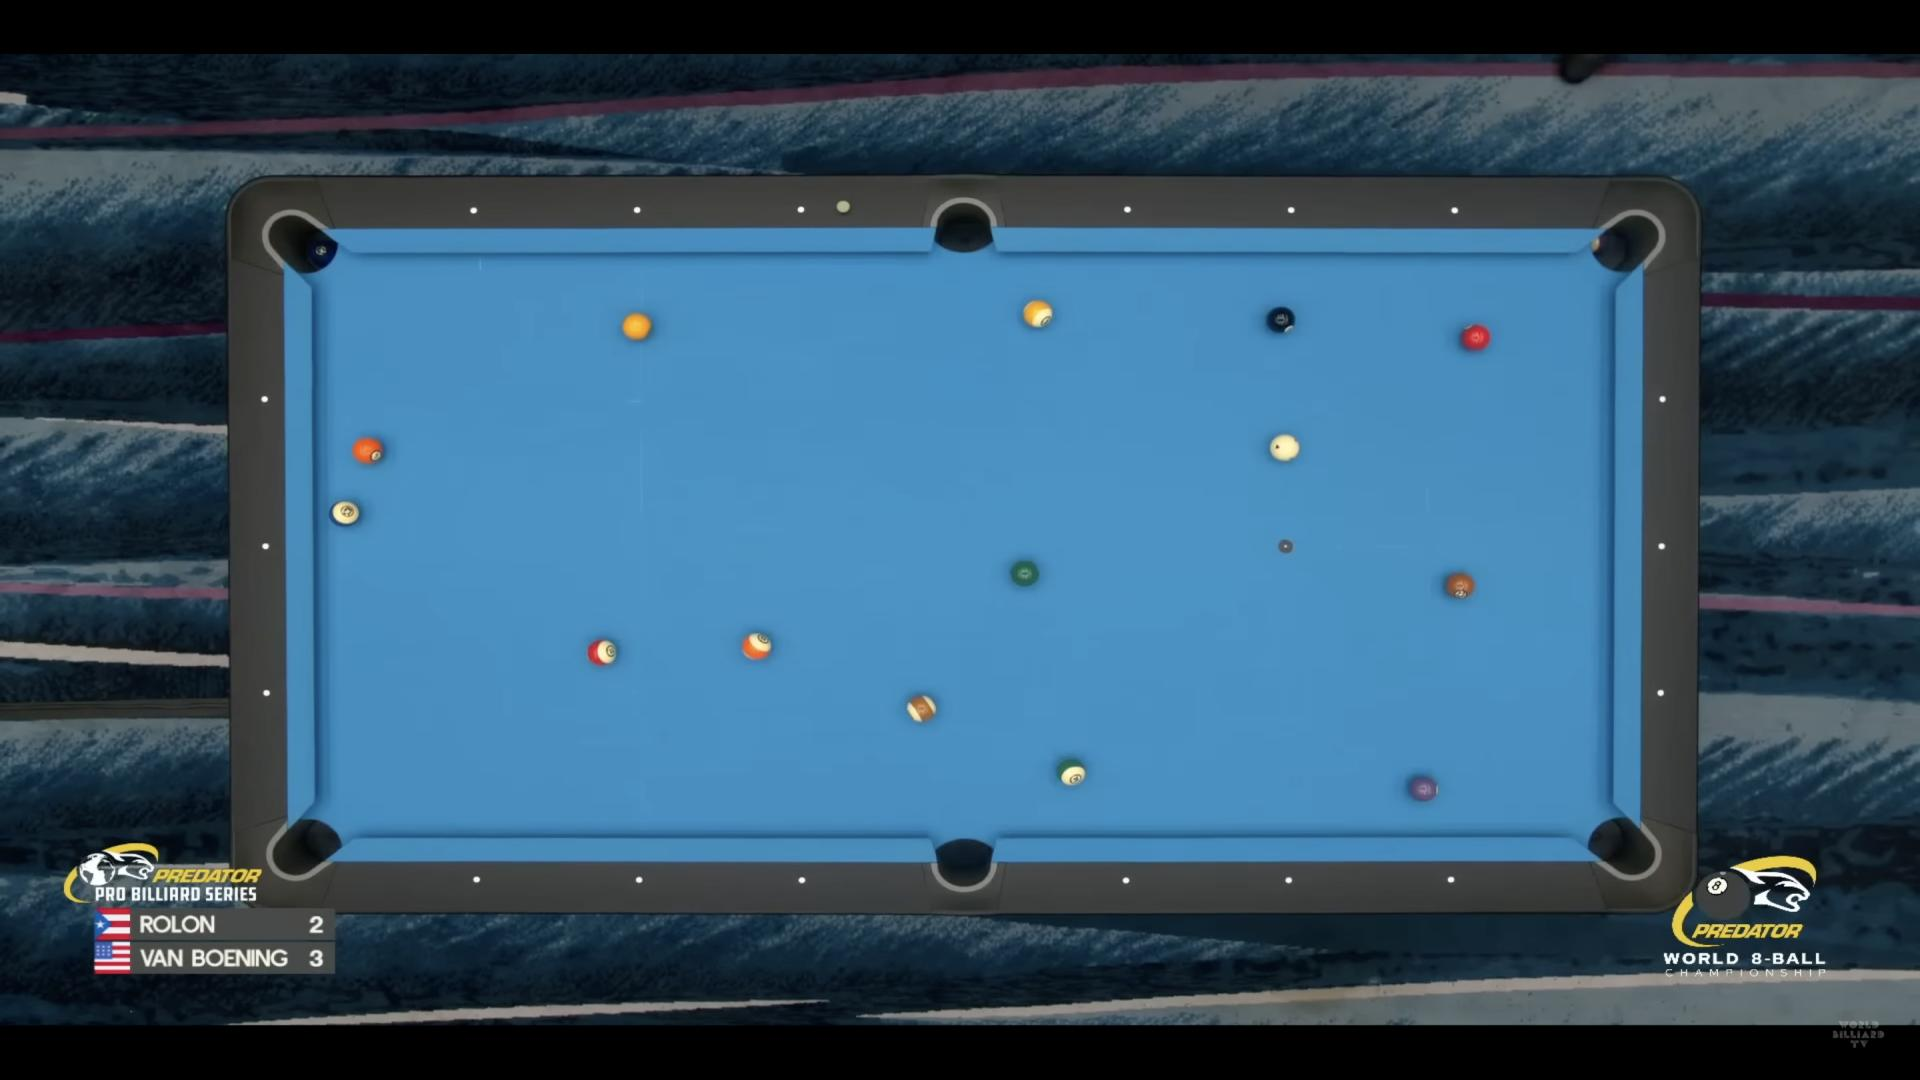Black: (1266, 307, 1295, 334)
Cue: (1270, 434, 1300, 462)
Dot: (632, 873, 647, 887), (468, 873, 484, 886), (794, 874, 810, 887), (630, 204, 644, 216), (795, 203, 808, 215), (468, 203, 480, 215), (261, 688, 273, 699), (261, 541, 272, 551), (258, 396, 270, 405), (1655, 688, 1667, 698), (1656, 542, 1668, 551), (1120, 876, 1131, 885), (1658, 394, 1668, 404), (1284, 876, 1295, 885), (1445, 876, 1456, 885), (1286, 206, 1296, 215), (1451, 206, 1461, 215), (1124, 204, 1133, 214)
Solid: (622, 313, 651, 340), (353, 438, 384, 464), (1461, 324, 1490, 351), (1410, 777, 1439, 802), (1010, 560, 1039, 585), (1447, 574, 1476, 597)
Striped: (907, 695, 938, 723), (1023, 301, 1052, 328), (742, 633, 771, 661), (587, 640, 617, 666), (1056, 760, 1085, 786), (330, 501, 360, 526)
